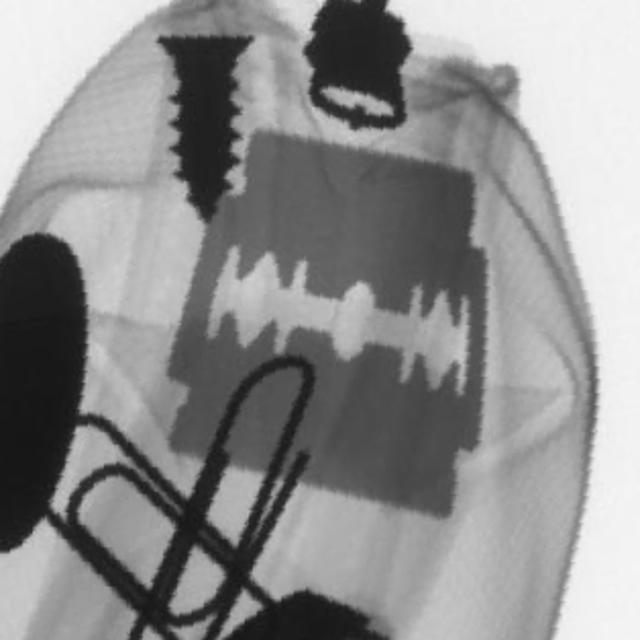razor: (159, 121, 497, 530)
